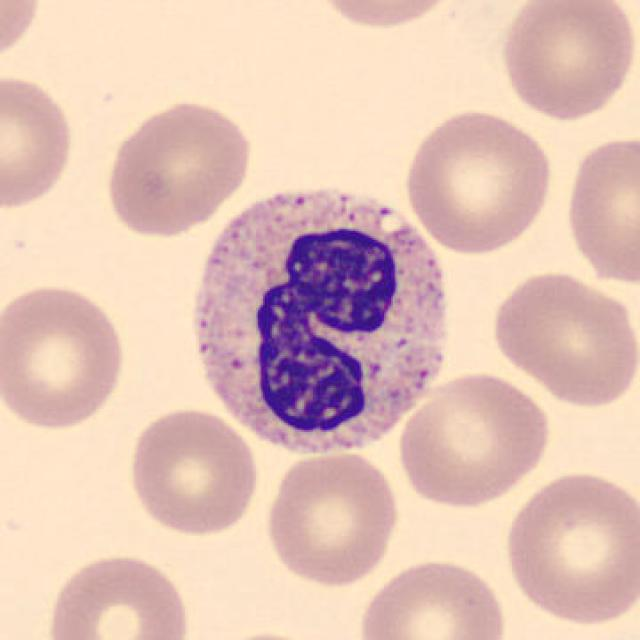Neutrophil: (176, 171, 460, 471)
RBC: (400, 106, 556, 256), (393, 368, 555, 512), (500, 466, 638, 630), (101, 95, 256, 238), (487, 266, 638, 409), (259, 446, 402, 589), (0, 278, 130, 434), (125, 404, 263, 540), (496, 0, 638, 123), (43, 548, 194, 640), (353, 553, 510, 640), (560, 131, 638, 289), (0, 70, 78, 212), (307, 0, 465, 33), (0, 0, 44, 72), (200, 627, 341, 640)
